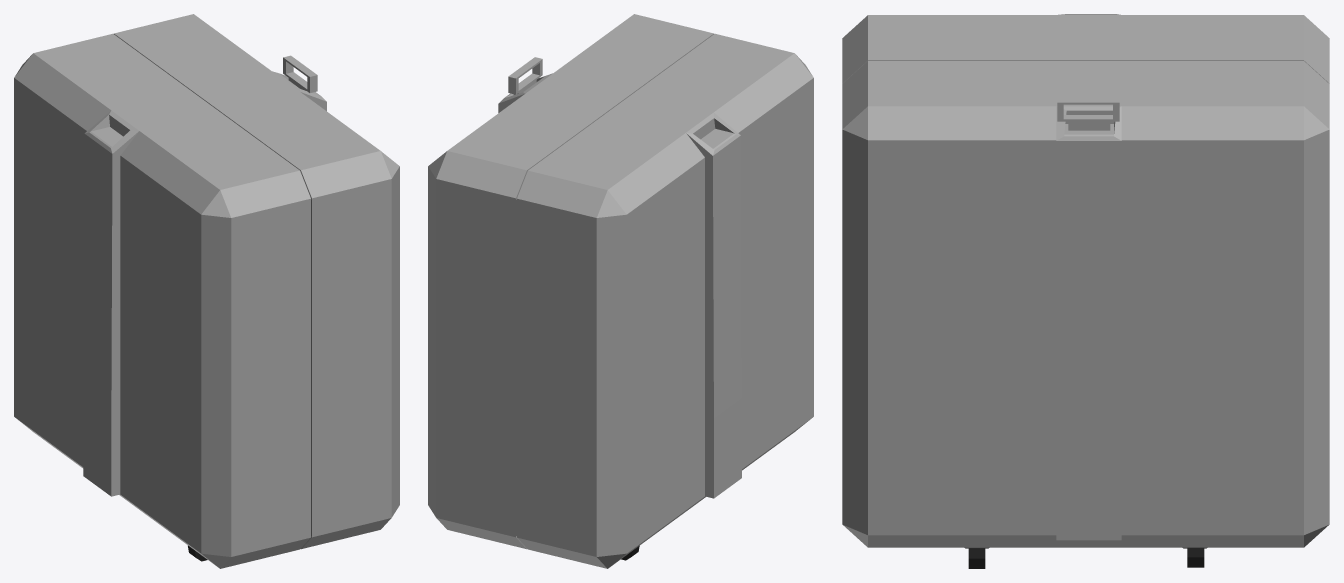
The model's file is luggage2.gltf.
The picture shows the model from 3 angles, left to right: view 1: azimuth 30°, elevation 25°; view 2: azimuth 150°, elevation 25°; view 3: azimuth 270°, elevation 25°; orthographic projection. The views are drawn at different scales.
Visible parts, largest first — view 1: Cube; view 2: Cube; view 3: Cube.
Boxes of the visible parts, x1,y1,x2,y2 form: Cube: (14, 14, 399, 568); Cube: (428, 14, 813, 568); Cube: (842, 14, 1329, 568).
Size of the model in its own units: 1.2 by 2.22 by 2.
1 material, 1 textured.
